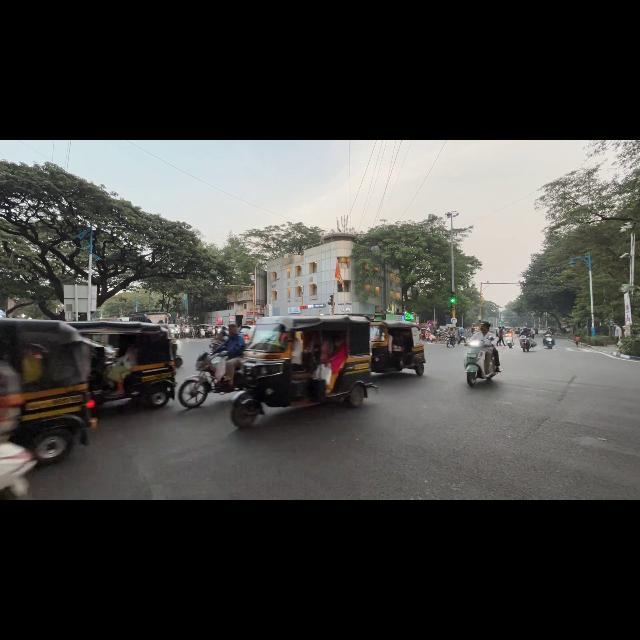bus: (129, 311, 168, 323), (116, 317, 129, 321)
car: (239, 325, 254, 343)
motorcycle: (178, 352, 244, 408), (0, 442, 36, 499), (464, 340, 497, 386), (520, 336, 531, 351), (503, 332, 513, 348), (543, 335, 554, 348), (447, 335, 455, 347), (188, 327, 196, 339), (458, 334, 466, 344), (198, 328, 206, 338), (172, 329, 180, 339), (180, 328, 188, 338)
